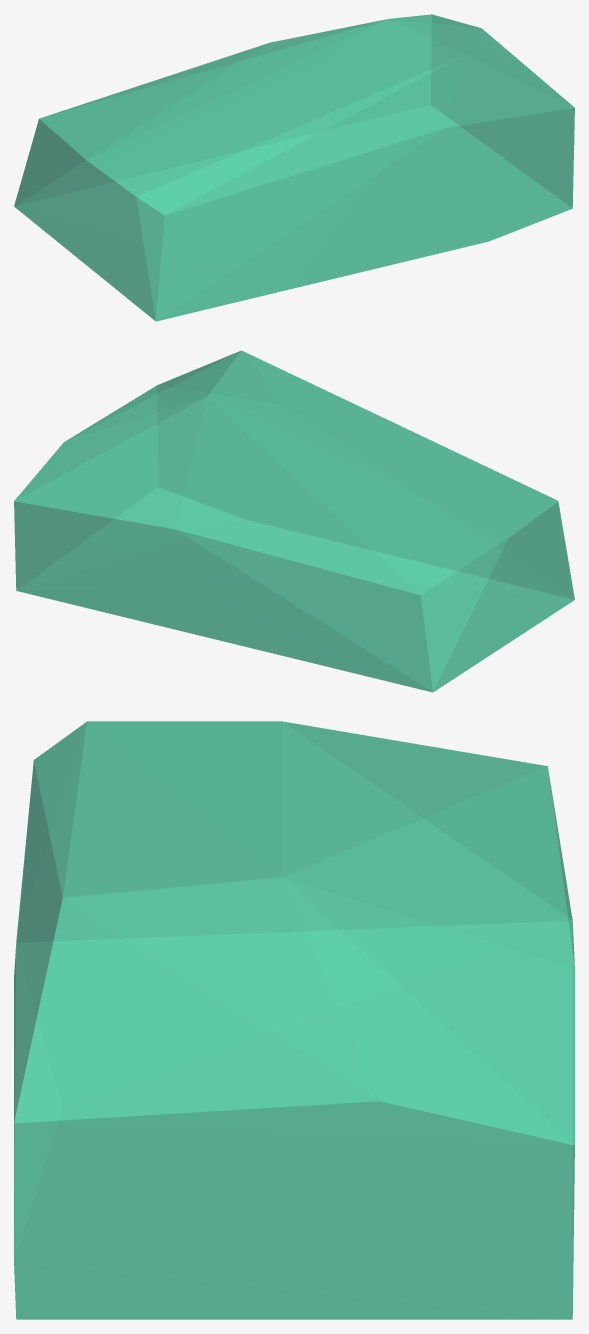
3 views of the same model, one above another, from view 1: azimuth 30°, elevation 25°; view 2: azimuth 150°, elevation 25°; view 3: azimuth 270°, elevation 25° (orthographic). The views are drawn at different scales.
Visible parts, largest first — view 1: Shape_IndexedFaceSet.040_Shape_IndexedFaceSet.18016; view 2: Shape_IndexedFaceSet.040_Shape_IndexedFaceSet.18016; view 3: Shape_IndexedFaceSet.040_Shape_IndexedFaceSet.18016.
Part boxes in pixels (bbox=[...]): Shape_IndexedFaceSet.040_Shape_IndexedFaceSet.18016: bbox=[14, 14, 574, 321]; Shape_IndexedFaceSet.040_Shape_IndexedFaceSet.18016: bbox=[14, 350, 574, 692]; Shape_IndexedFaceSet.040_Shape_IndexedFaceSet.18016: bbox=[14, 721, 574, 1319].
Size of the model in its own units: 0.2963 by 0.1291 by 0.1747.
